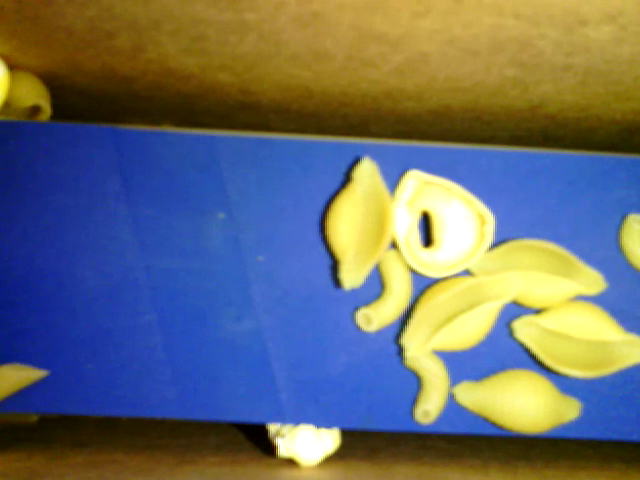elbow: (353, 248, 408, 335), (400, 342, 449, 425)
penne: (1, 361, 50, 399)
shell: (466, 231, 608, 309), (317, 151, 394, 292), (513, 300, 639, 379), (402, 269, 519, 354), (448, 366, 582, 435), (7, 68, 58, 124)
tortellini: (393, 164, 497, 280)
